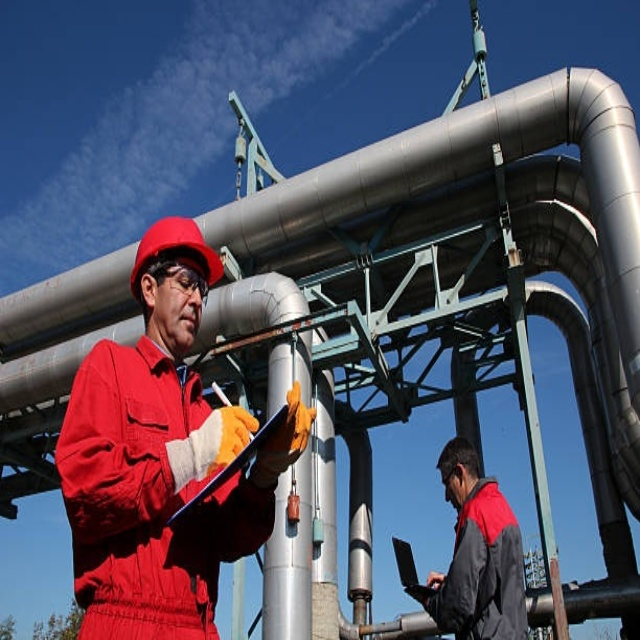Gafas: (152, 265, 209, 305), (440, 463, 461, 488)
Guantes: (250, 379, 316, 483), (192, 400, 261, 481)
Sin_guantes: (426, 571, 447, 590)
Sin_mascara: (174, 309, 202, 339)
